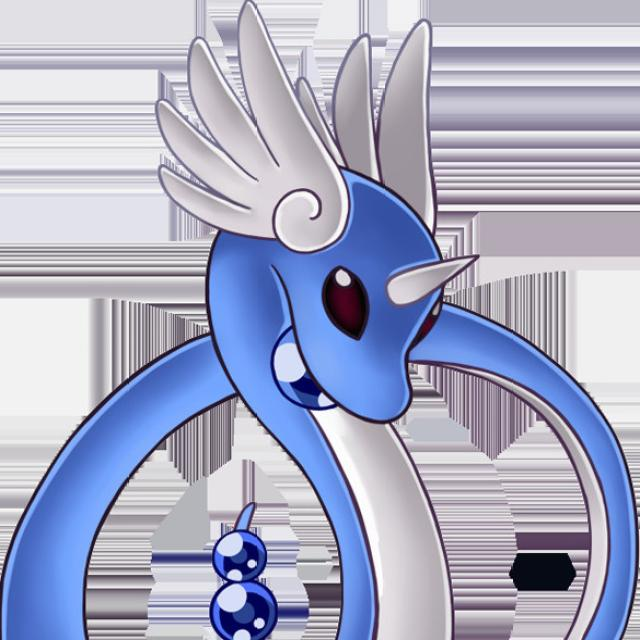Dragonair: (130, 2, 501, 640)
